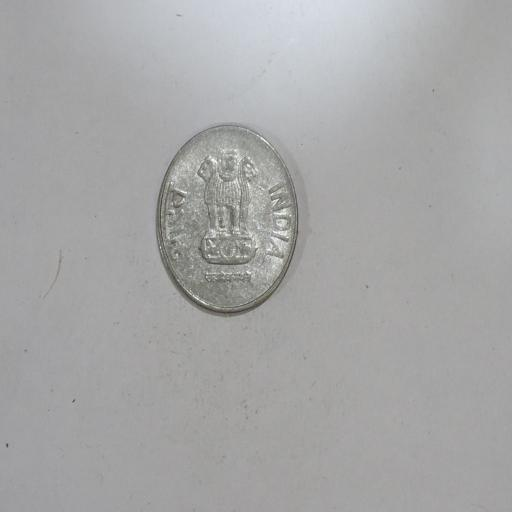rupee2: (153, 124, 301, 318)
